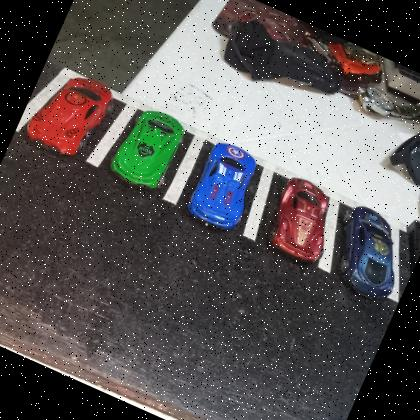Car: (316, 197, 420, 308), (22, 61, 121, 168), (180, 133, 271, 237), (256, 172, 348, 272), (104, 99, 193, 199)
